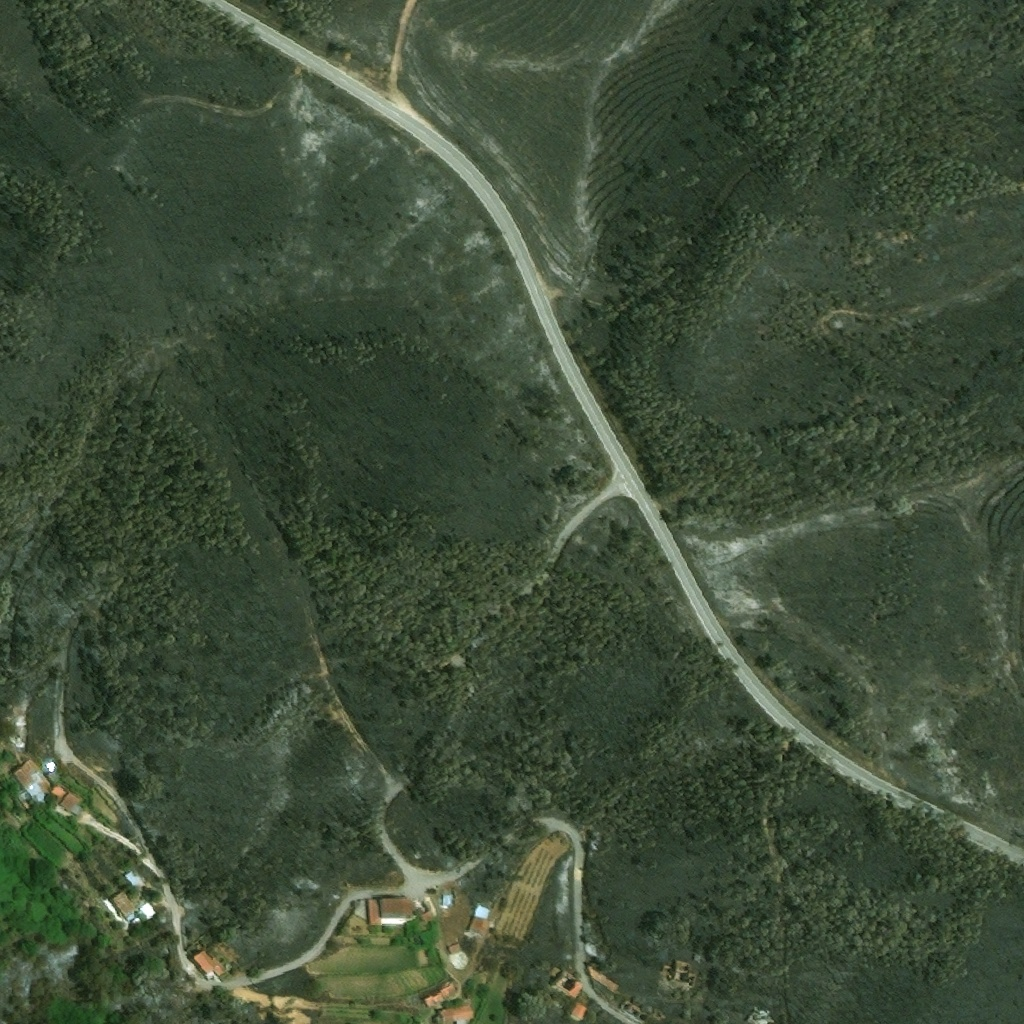0 no-damage: (12, 757, 52, 810), (109, 884, 158, 920), (588, 958, 626, 994), (367, 895, 414, 924), (192, 947, 229, 980), (436, 1002, 477, 1023), (424, 981, 457, 1006), (470, 902, 492, 936), (59, 791, 78, 812), (571, 999, 590, 1019), (125, 867, 144, 886), (51, 783, 68, 800), (420, 910, 436, 922), (70, 804, 84, 817), (448, 942, 462, 953)
3 destroyed: (552, 968, 586, 998), (672, 956, 703, 987), (622, 998, 644, 1018), (754, 1007, 776, 1023), (17, 736, 29, 748), (17, 715, 28, 727)
